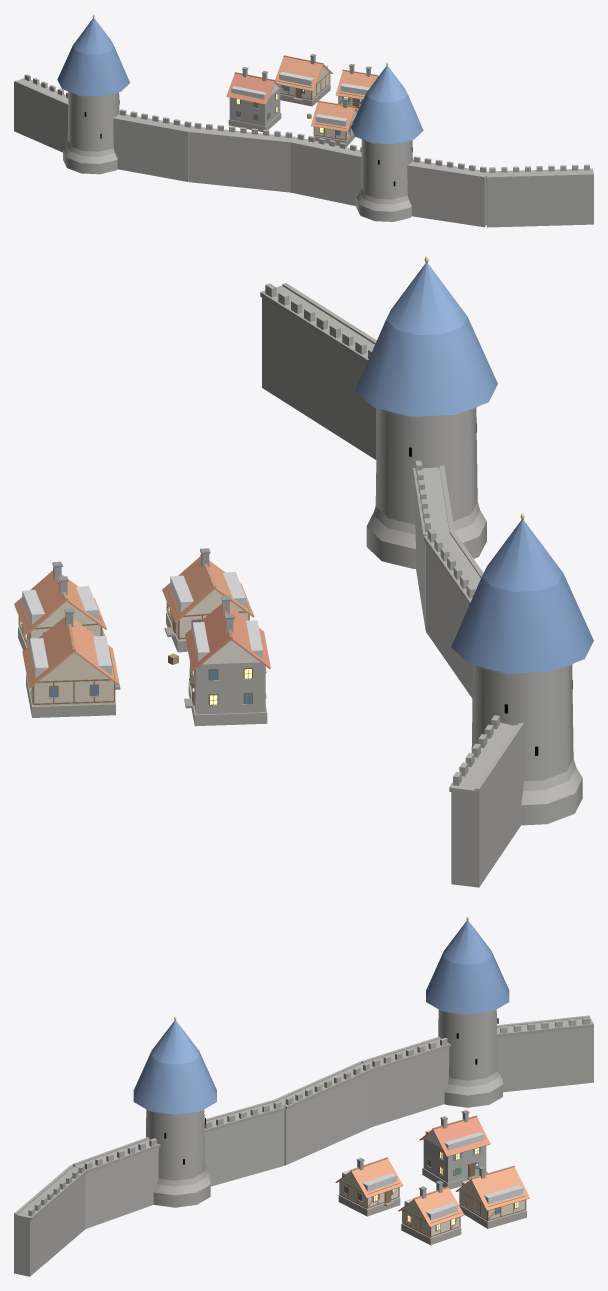
Rendered from struct_6_9.glb.
3 renders of one model, top to bottom at view 1: azimuth 30°, elevation 25°; view 2: azimuth 150°, elevation 25°; view 3: azimuth 270°, elevation 25°, orthographic. The views are drawn at different scales.
Visible parts, largest first — view 1: Landmarks, HousesNear, Occluder-occonly; view 2: Landmarks, HousesNear, Occluder-occonly; view 3: Landmarks, HousesNear, Occluder-occonly.
Boxes of the visible parts, x1,y1,x2,y2 form: Landmarks: [14, 14, 593, 227]; HousesNear: [226, 54, 378, 146]; Occluder-occonly: [231, 65, 369, 126]; Landmarks: [168, 256, 593, 887]; HousesNear: [14, 548, 270, 726]; Occluder-occonly: [22, 571, 262, 677]; Landmarks: [14, 916, 593, 1276]; HousesNear: [335, 1110, 529, 1245]; Occluder-occonly: [342, 1129, 523, 1220].
Size of the model in its own units: 81.34 by 32.79 by 98.07.
